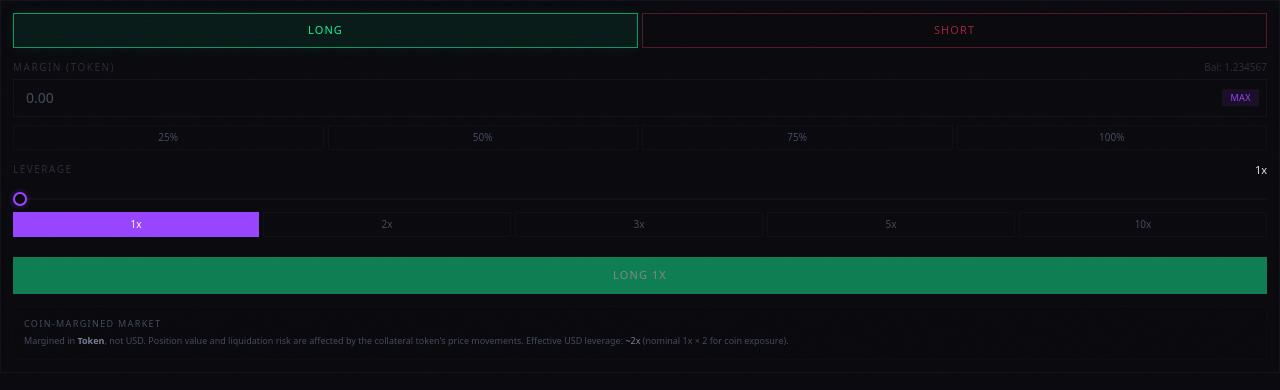
Test: TradeForm Component Tests › TRADE-006: MAX button uses full balance › should handle balance with decimals correctly
Click the button "Max" at (1241, 98), box [1222, 89, 1259, 106]
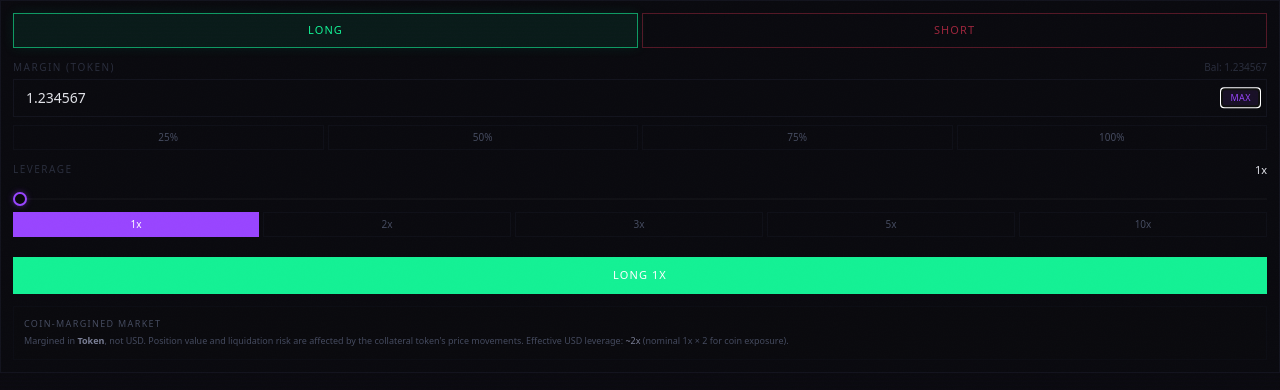
Check: the field with placeholder "0.00" holds "1.234567", box [13, 78, 1267, 116]
